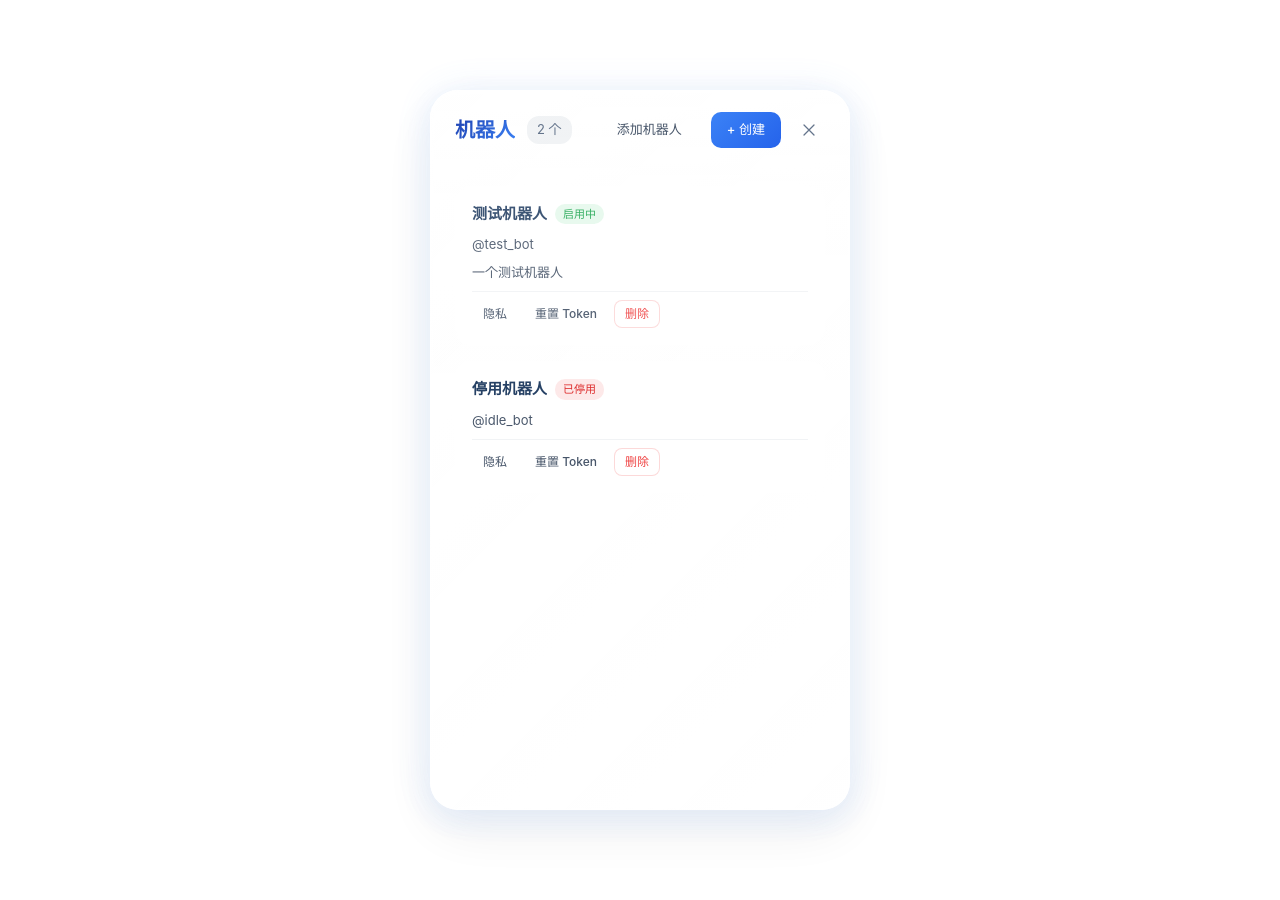
Test case: BotsModal › 重置 token 流程：确认后 resetBotToken 精确入参 + 新 token 一次性展示
Check: the heading "测试机器人" is shown, box [472, 202, 547, 225]
Click the button "重置 Token" below "一个测试机器人" at (566, 314), box [524, 300, 608, 328]
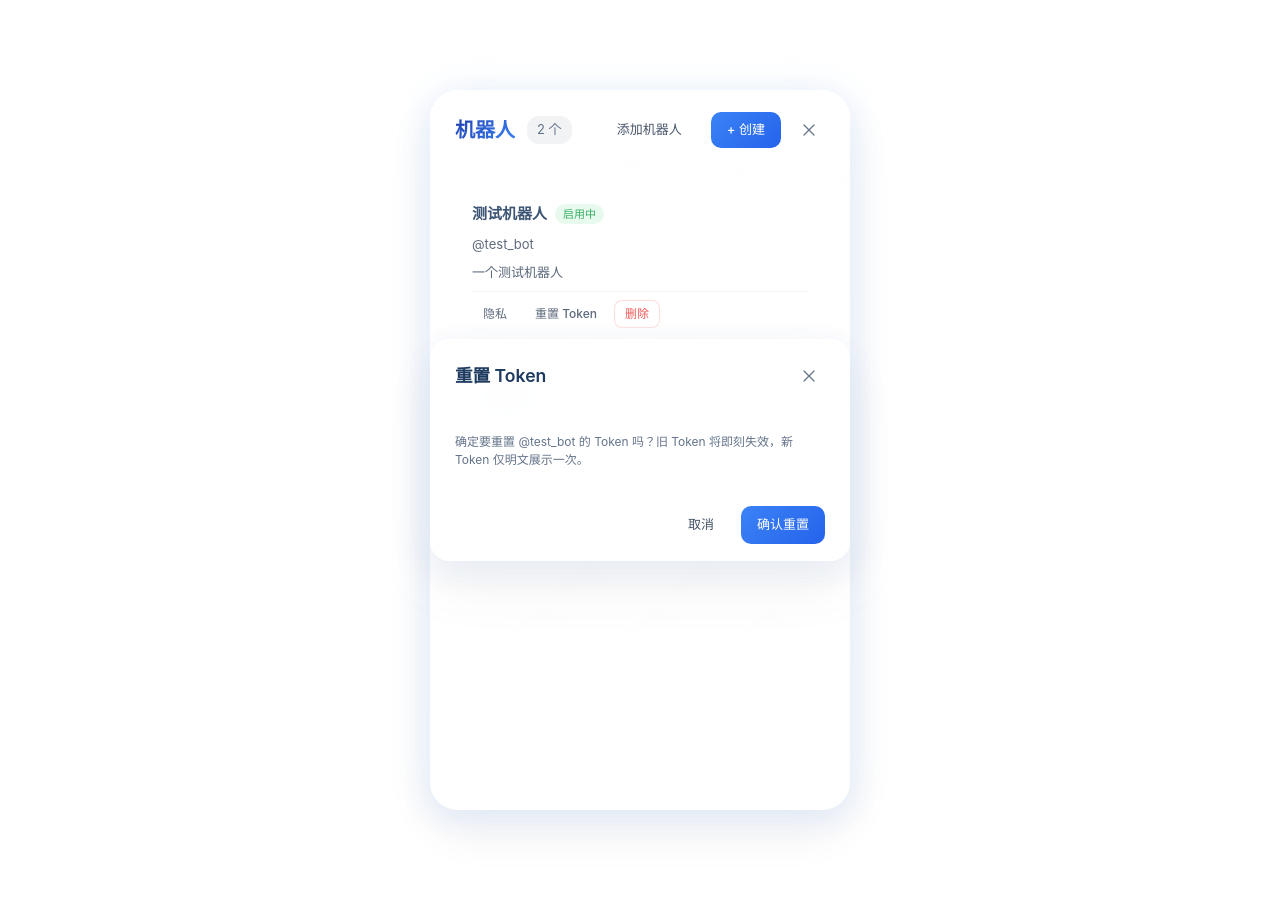
Check: the text "确定要重置 @test_bot 的 Token 吗？旧 Token 将即刻失效，新 Token 仅明文展示一次。" is shown, box [455, 433, 825, 469]
Click the button "确认重置" at (783, 525), box [741, 506, 825, 544]
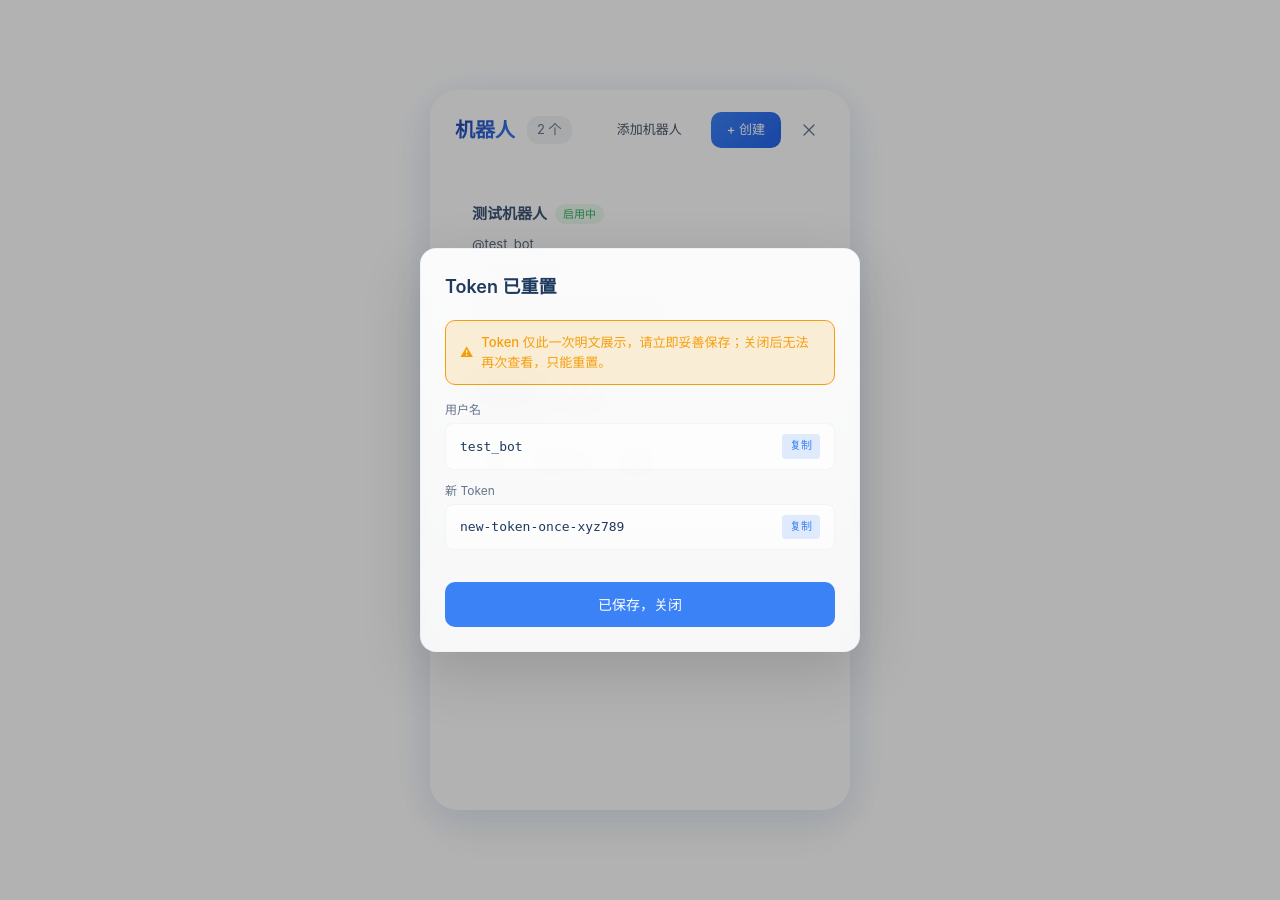
Check: the heading "Token 已重置" is shown, box [445, 276, 556, 297]
Check: the text "new-token-once-xyz789" is shown, box [460, 519, 624, 534]
